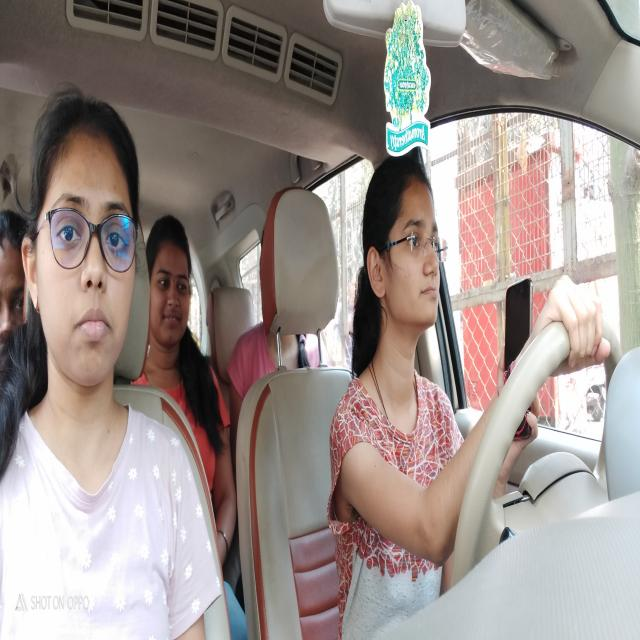mobile: (500, 280, 538, 452)
person: (20, 90, 142, 392), (355, 158, 452, 351), (144, 221, 196, 357), (0, 212, 26, 342)
